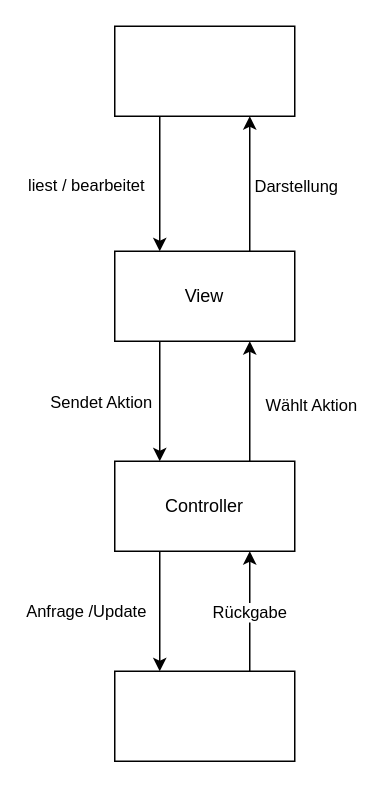
The diagram is 383 pixels wide and 788 high, and some of its shapes have lost their labels. The centre of each missing label's shape, as x and y in pixels:
"Model" goes at [204,715].
"User" goes at [204,70].
